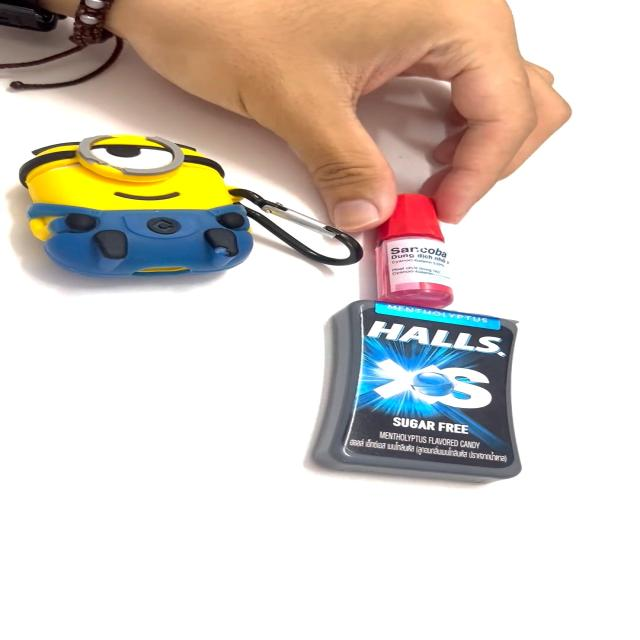airpod minion: (4, 126, 363, 279)
mint hall: (310, 297, 569, 495)
sancoba eyes: (375, 180, 482, 308)
